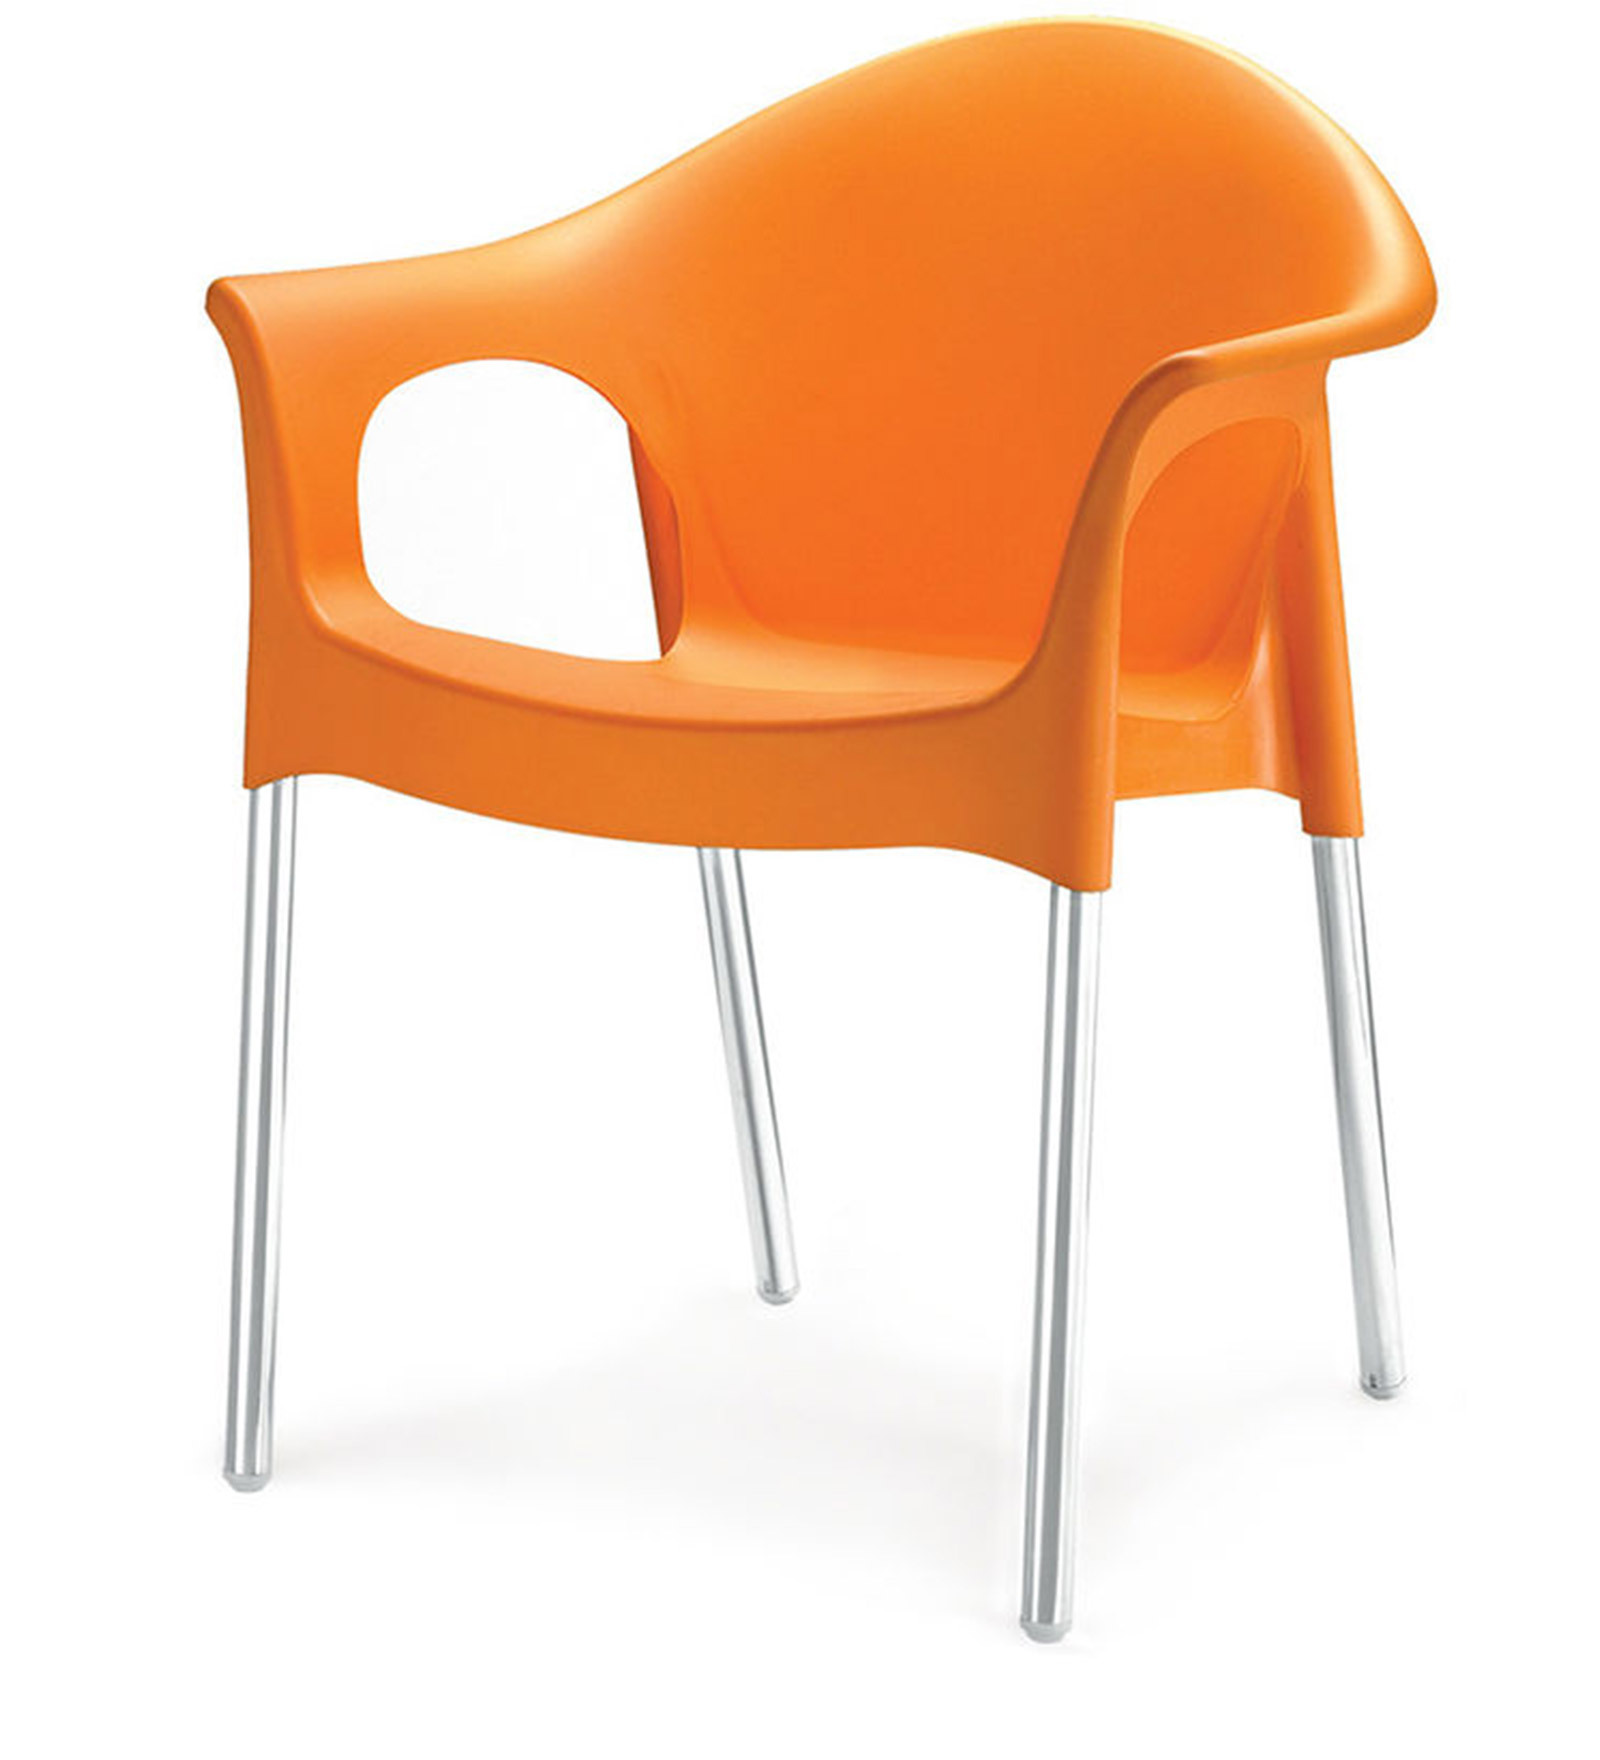Novella Series - 9 (Set of 2) Chairs in Orange Colour by Nilkamal: (190, 17, 1442, 1640)
